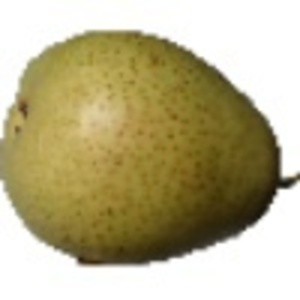pera: (1, 28, 300, 269)
